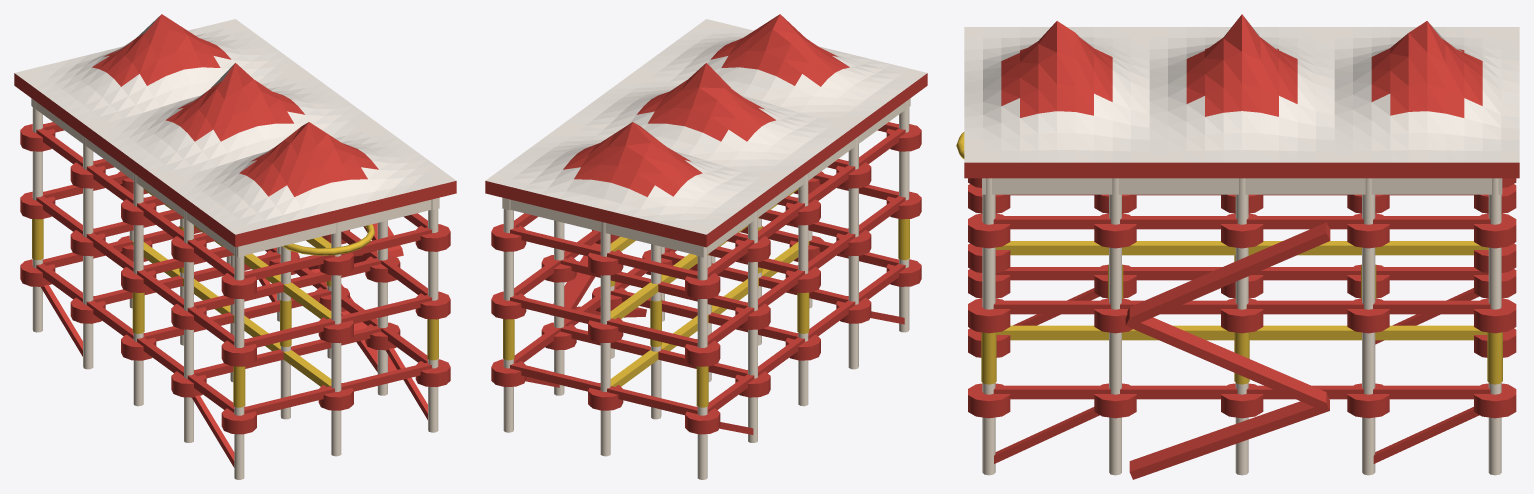
The model's file is nyc-sky-chaser.glb.
3 renders of one model, left to right at view 1: azimuth 30°, elevation 25°; view 2: azimuth 150°, elevation 25°; view 3: azimuth 270°, elevation 25°, orthographic. The views are drawn at different scales.
Visible parts, largest first — view 1: Sky Chaser; view 2: Sky Chaser; view 3: Sky Chaser.
Part boxes in pixels (x1=…): Sky Chaser: x1=14, y1=14, x2=456, y2=479; Sky Chaser: x1=485, y1=14, x2=927, y2=479; Sky Chaser: x1=956, y1=14, x2=1519, y2=479.
Bounding box in the file's own units: 14.5 × 18.8 × 24.05.
